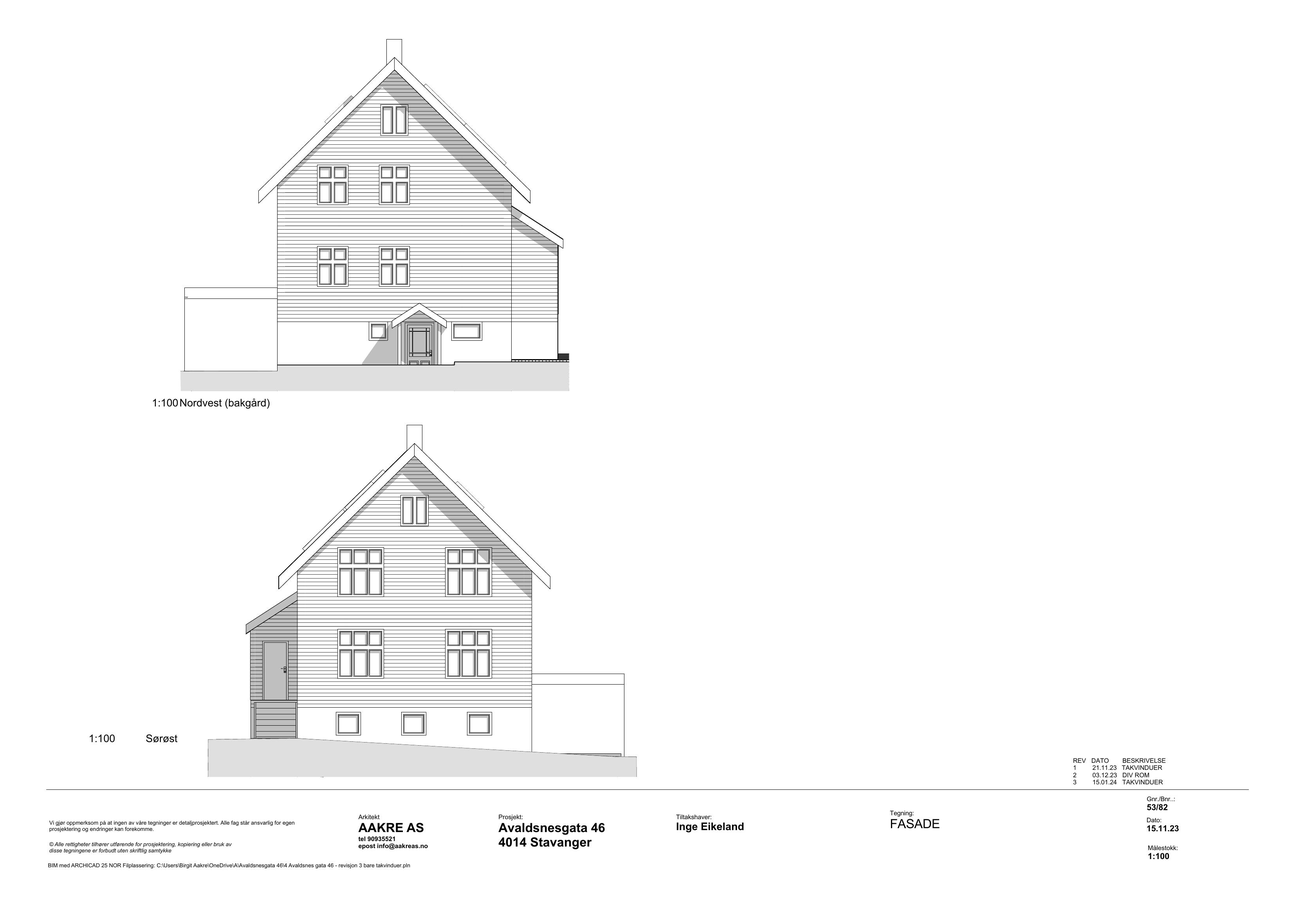fasade: (184, 38, 564, 372), (247, 422, 624, 757)
